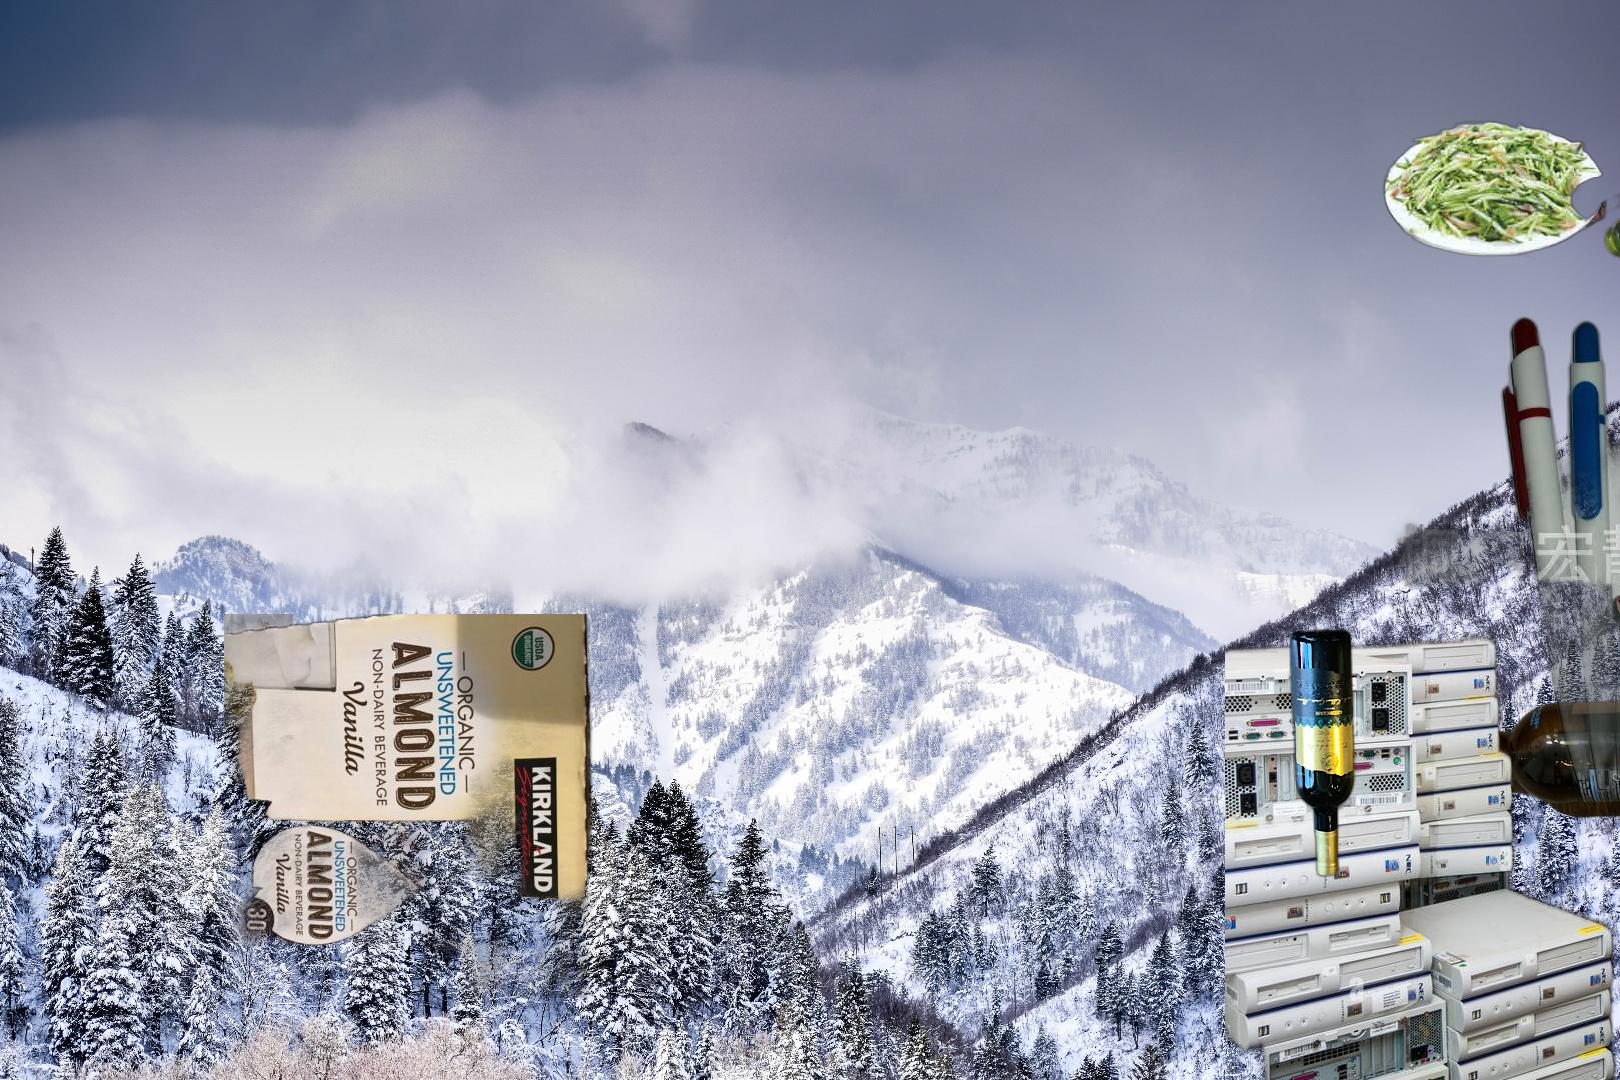biological: (1381, 113, 1620, 259)
glass: (1416, 693, 1620, 823), (1280, 623, 1358, 882), (1600, 49, 1620, 259)
penholder: (1336, 245, 1620, 796)
plastic-bottles: (1237, 964, 1336, 1080)
trashbox-cardboard: (1225, 624, 1620, 1080), (224, 614, 605, 998)
